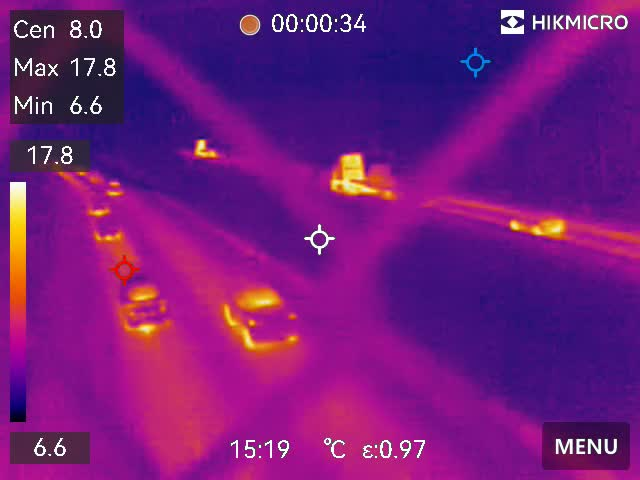heavyTruck: (322, 148, 404, 200)
vehicle: (218, 286, 306, 350), (114, 272, 174, 334)
